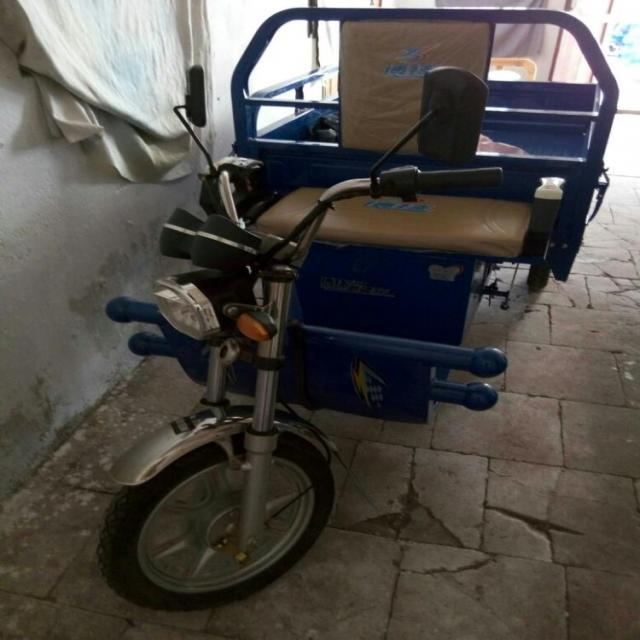tricycle: (96, 3, 622, 619)
